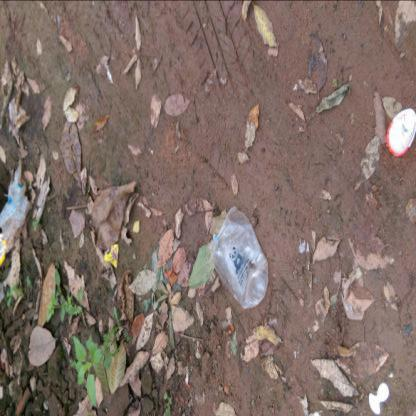Cup: (209, 206, 269, 309)
Other plastic: (386, 108, 415, 157)
Plastic bag - wrapper: (104, 244, 118, 268)
Unlabeled litter: (0, 160, 31, 244), (369, 383, 389, 415), (0, 233, 6, 267), (193, 339, 201, 358)
